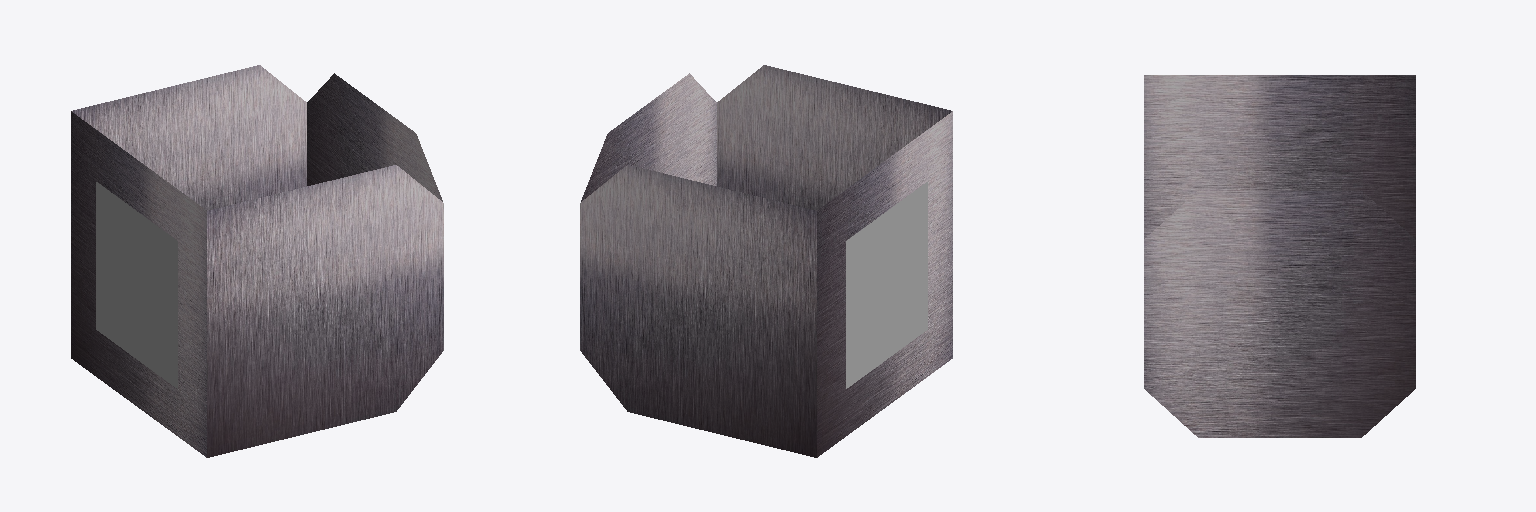
3 views of the same model, side by side, from view 1: azimuth 30°, elevation 25°; view 2: azimuth 150°, elevation 25°; view 3: azimuth 270°, elevation 25° (orthographic).
Parts seen in each view (by area): view 1: face1; view 2: face1; view 3: face1.
Part boxes in pixels (x1,y1,x2,y2): face1: (71, 65, 443, 457); face1: (580, 65, 952, 457); face1: (1144, 75, 1415, 437).
Size of the model in its own units: 1.01 by 1 by 1.
Materials: 1 (1 with a texture image).